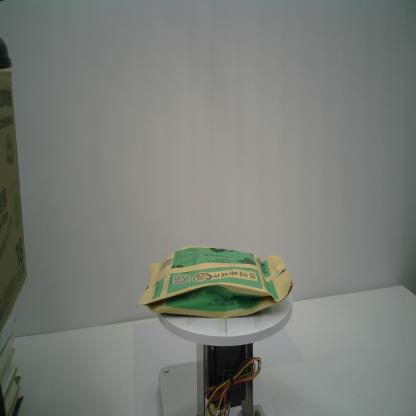Dried Food: (135, 244, 294, 318)
